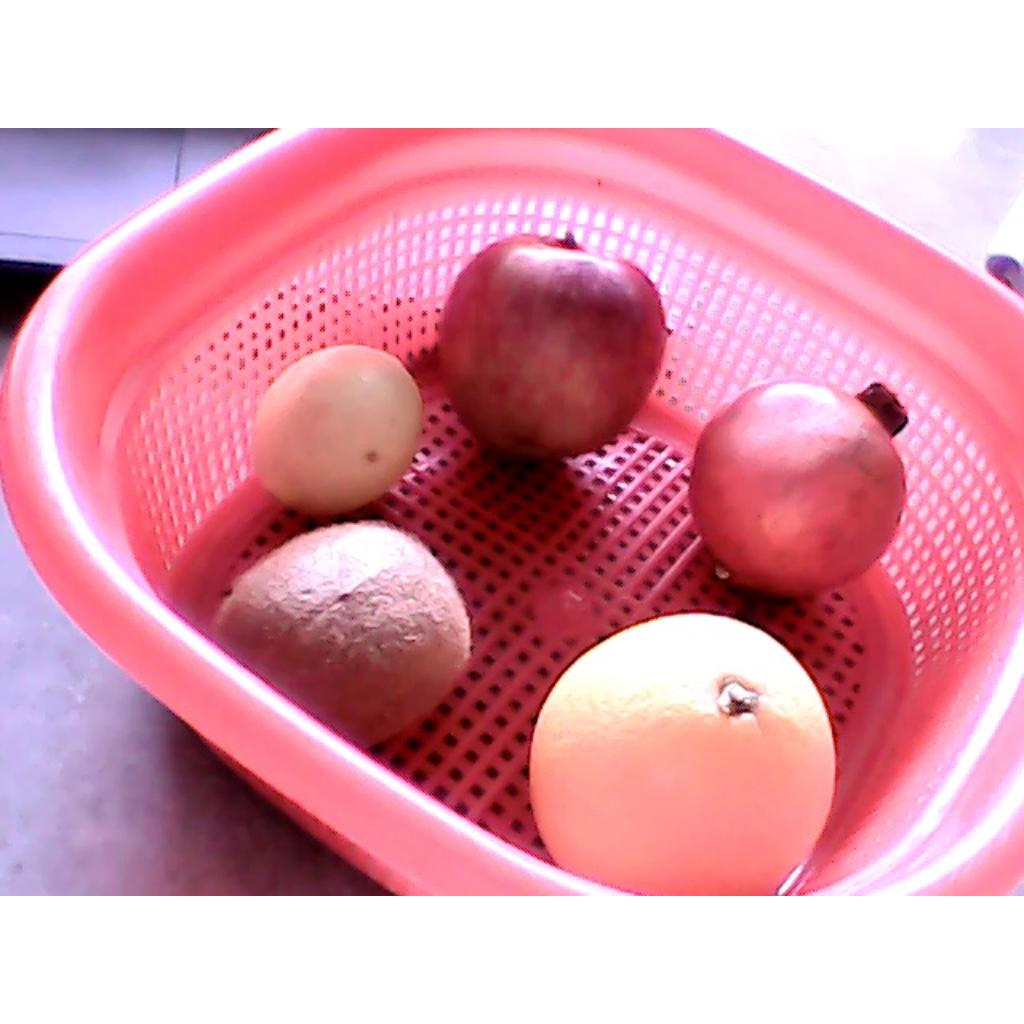apple: (442, 235, 669, 462)
kiwi: (210, 522, 469, 749)
lemon: (250, 347, 422, 519)
orange: (530, 612, 835, 894)
pomegranate: (688, 378, 913, 596)
